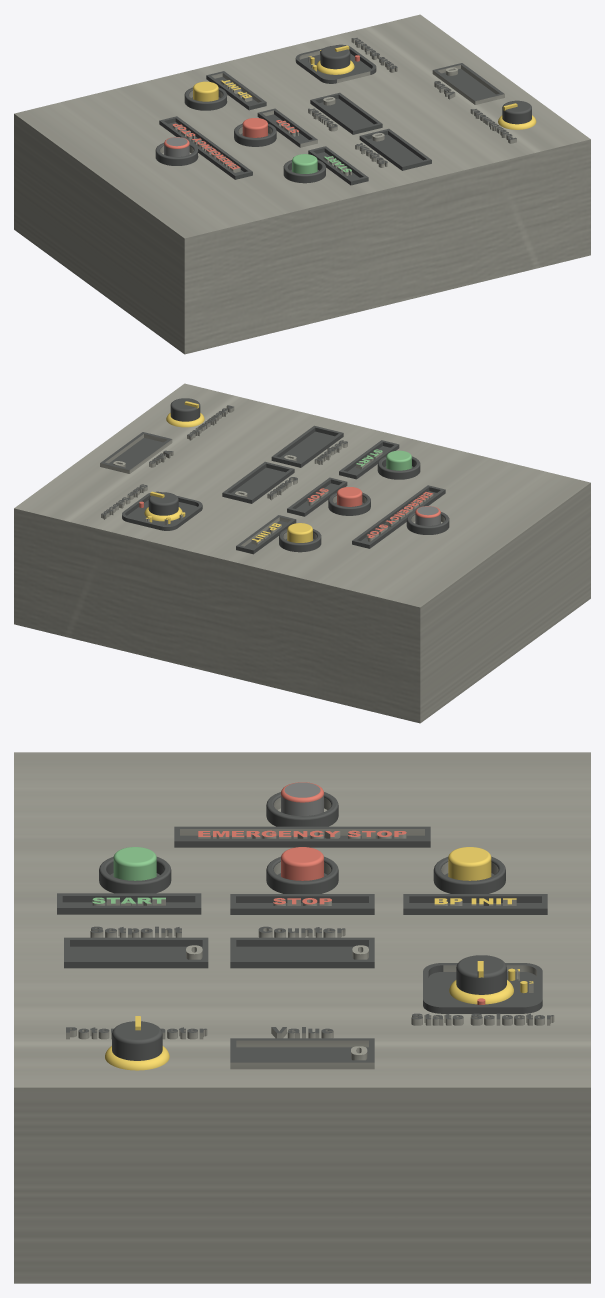
Rendered from CommandBox.glb.
The picture shows the model from 3 angles, top to bottom: view 1: azimuth 30°, elevation 25°; view 2: azimuth 150°, elevation 25°; view 3: azimuth 270°, elevation 25°; orthographic projection. The views are drawn at different scales.
Parts seen in each view (by area): view 1: MetallicBase, StateSelector, Potentiometer, YellowButton, EmergencyButton, GreenButton, RedButton; view 2: MetallicBase, Potentiometer, StateSelector, GreenButton, EmergencyButton, RedButton, YellowButton; view 3: MetallicBase, Potentiometer, StateSelector, YellowButton, GreenButton, EmergencyButton, RedButton.
Part boxes in pixels (<box>): MetallicBase: <box>14,14,590,354</box>; StateSelector: <box>316,45,354,74</box>; Potentiometer: <box>498,100,536,129</box>; YellowButton: <box>193,81,218,101</box>; EmergencyButton: <box>164,137,189,156</box>; GreenButton: <box>292,154,317,173</box>; RedButton: <box>242,118,267,137</box>; MetallicBase: <box>14,383,590,723</box>; Potentiometer: <box>166,398,204,427</box>; StateSelector: <box>144,491,182,521</box>; GreenButton: <box>386,450,411,470</box>; EmergencyButton: <box>415,506,440,525</box>; RedButton: <box>337,487,362,506</box>; YellowButton: <box>287,523,312,542</box>; MetallicBase: <box>14,752,590,1283</box>; Potentiometer: <box>105,1016,169,1070</box>; StateSelector: <box>449,955,513,1004</box>; YellowButton: <box>448,847,491,880</box>; GreenButton: <box>113,847,156,880</box>; EmergencyButton: <box>281,782,323,815</box>; RedButton: <box>281,847,323,880</box>.
Size of the model in its own units: 0.275 by 0.0865 by 0.2.
Materials: 9 (1 with a texture image).
